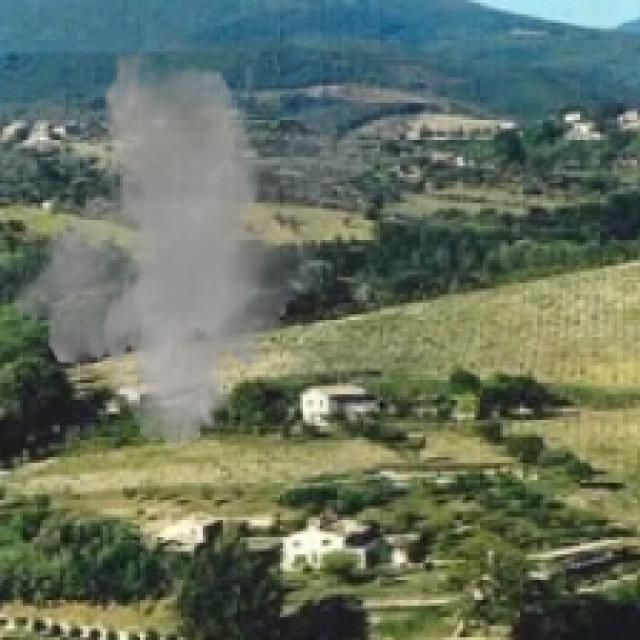Smoke: (0, 49, 380, 448)
